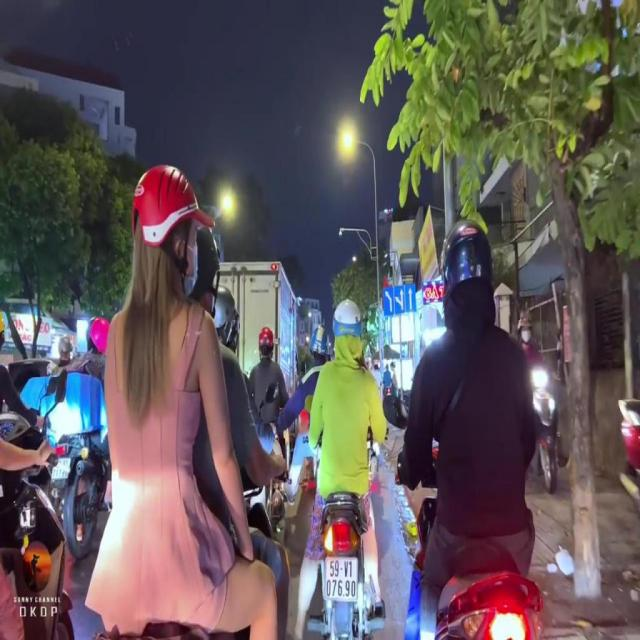huong_di_tren_moi_lan_duong_theo_vach_ke_duong: (382, 284, 417, 316)
